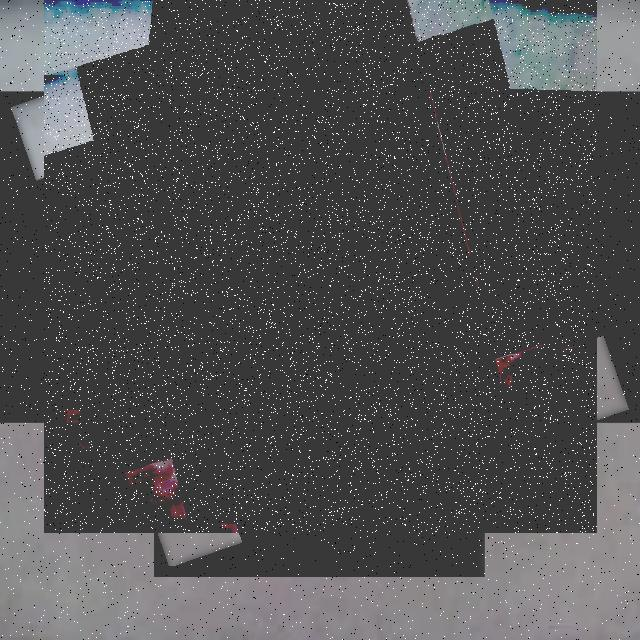dua puluh ribu rupiah: (44, 0, 597, 533)
